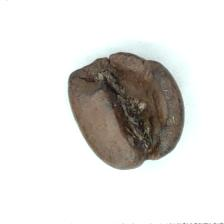NG: (102, 71, 167, 150)
